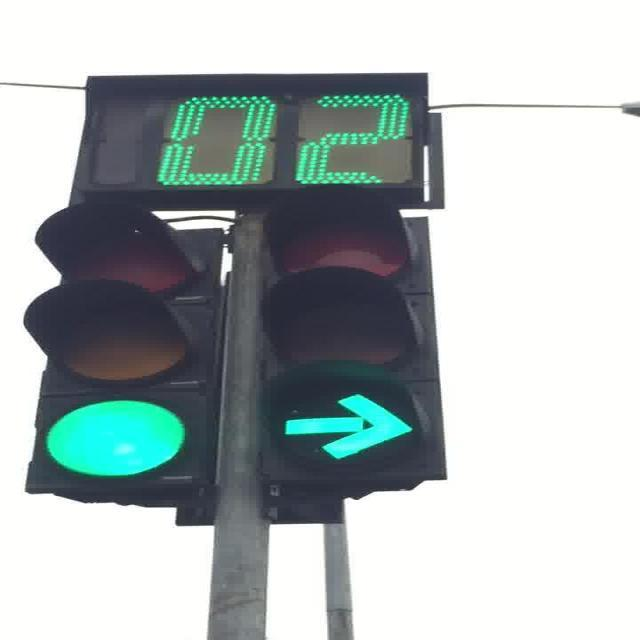green_light: (21, 200, 218, 493), (256, 184, 446, 484)
